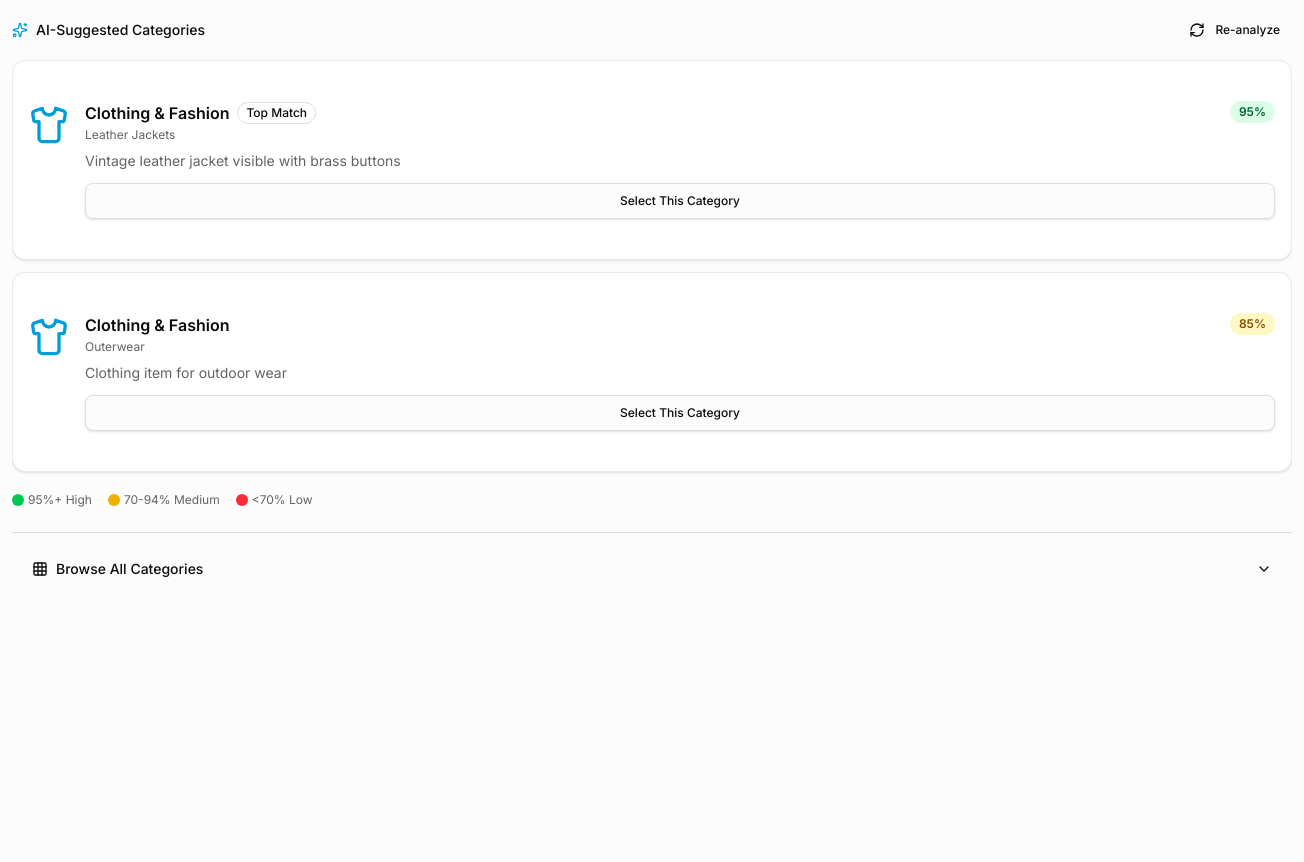
Scenario: AICategoryStep Component › Manual Category Fallback › expands manual category grid when button clicked
Expected: the text "Browse All Categories" is shown, [32, 559, 203, 579]
Click the button "Browse All Categories" at (130, 568), box [12, 549, 1292, 589]
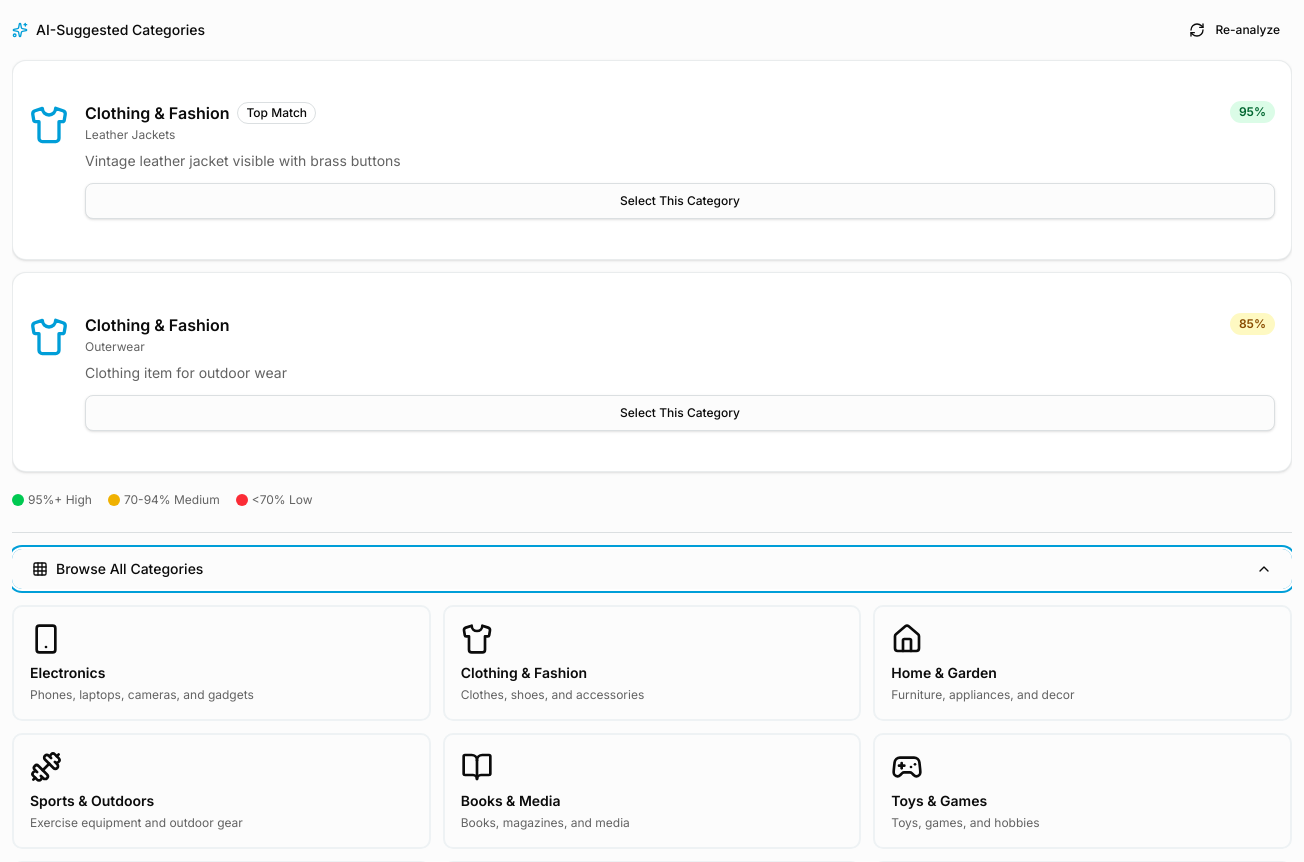
Now the heading "Electronics" is shown, box [30, 664, 105, 681]
